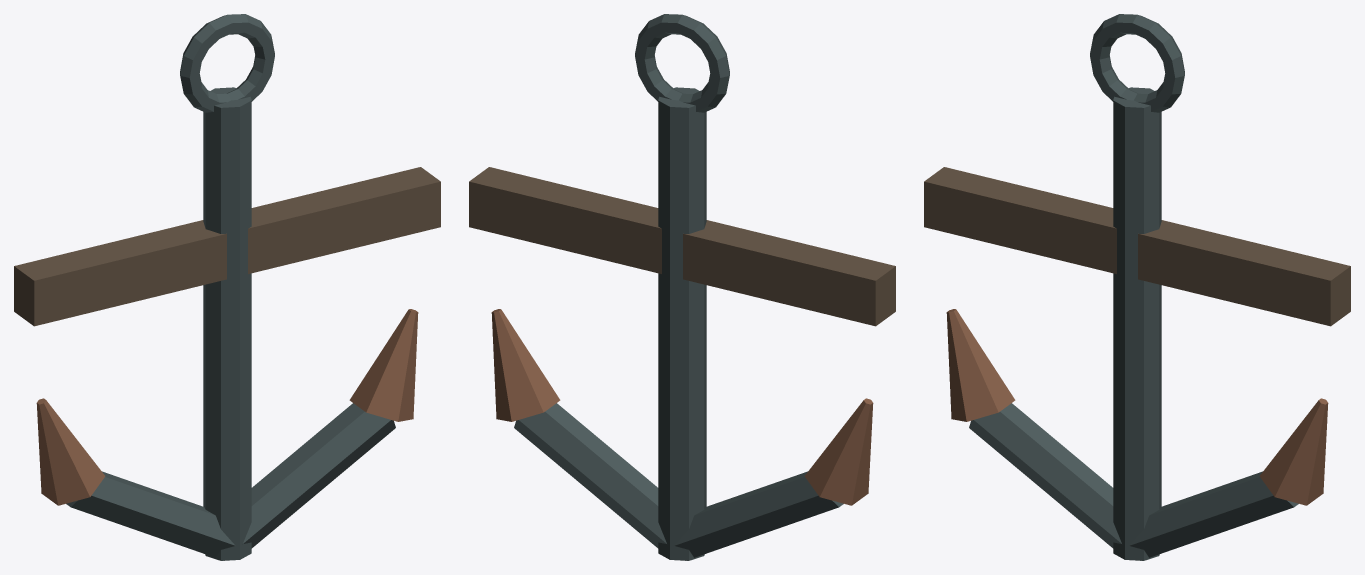
The model's file is SW_Anchor_Rusted.fbx.
3 renders of one model, left to right at view 1: azimuth 30°, elevation 25°; view 2: azimuth 150°, elevation 25°; view 3: azimuth 330°, elevation 25°, orthographic.
Parts seen in each view (by area): view 1: SW_Anchor_Rusted; view 2: SW_Anchor_Rusted; view 3: SW_Anchor_Rusted.
Part boxes in pixels (x1,y1,x2,y2): SW_Anchor_Rusted: [14, 14, 440, 560]; SW_Anchor_Rusted: [469, 14, 895, 560]; SW_Anchor_Rusted: [924, 14, 1350, 560].
Bounding box in the file's own units: 1.4 × 1.78 × 0.2.
